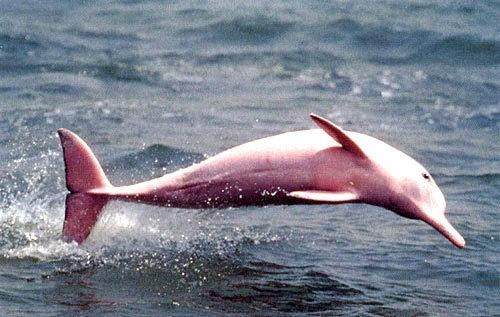fish: (55, 112, 473, 247)
